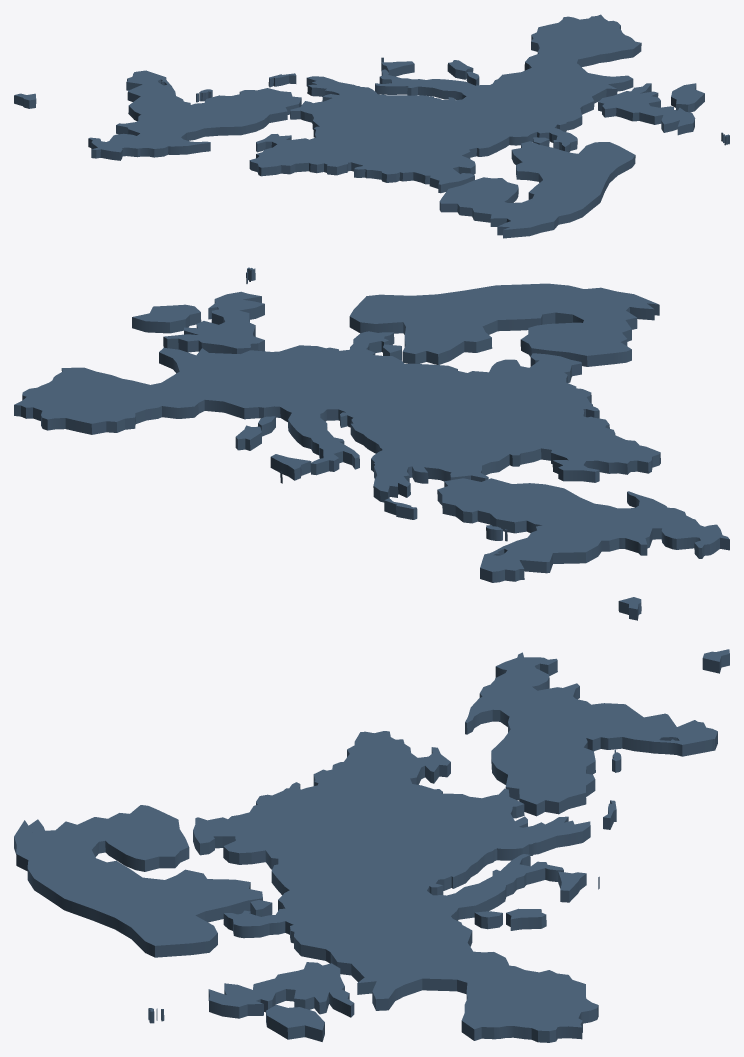
Rendered from europe.fbx.
The picture shows the model from 3 angles, top to bottom: view 1: azimuth 30°, elevation 25°; view 2: azimuth 150°, elevation 25°; view 3: azimuth 270°, elevation 25°; orthographic projection. The views are drawn at different scales.
Visible parts, largest first — view 1: Plane.740, Plane.550, Plane.549, Plane.739; view 2: Plane.740, Plane.550, Plane.739, Plane.549; view 3: Plane.740, Plane.550, Plane.549, Plane.739.
Boxes of the visible parts, x1=… form: Plane.740: x1=14, y1=14, x2=729, y2=238; Plane.550: x1=498, y1=58, x2=633, y2=111; Plane.549: x1=476, y1=97, x2=566, y2=145; Plane.739: x1=598, y1=83, x2=695, y2=135; Plane.740: x1=14, y1=267, x2=729, y2=620; Plane.550: x1=150, y1=347, x2=305, y2=419; Plane.739: x1=163, y1=291, x2=264, y2=353; Plane.549: x1=289, y1=343, x2=404, y2=398; Plane.740: x1=14, y1=649, x2=729, y2=1042; Plane.550: x1=333, y1=923, x2=485, y2=1010; Plane.549: x1=269, y1=883, x2=399, y2=943; Plane.739: x1=208, y1=962, x2=354, y2=1018.
Bounding box in the file's own units: 315 × 11.57 × 260.
